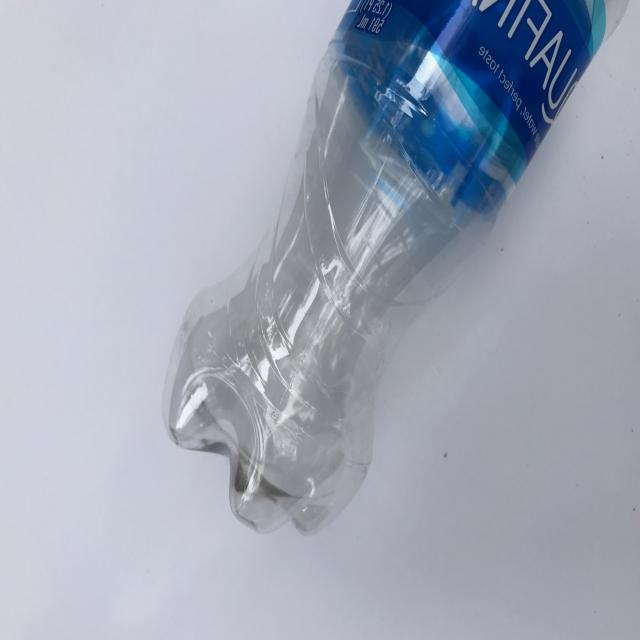plastic: (161, 0, 632, 537)
